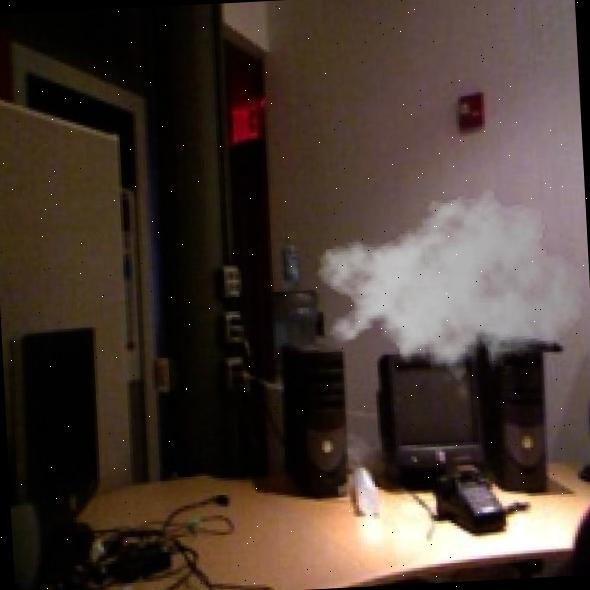smoke: (312, 179, 590, 398)
